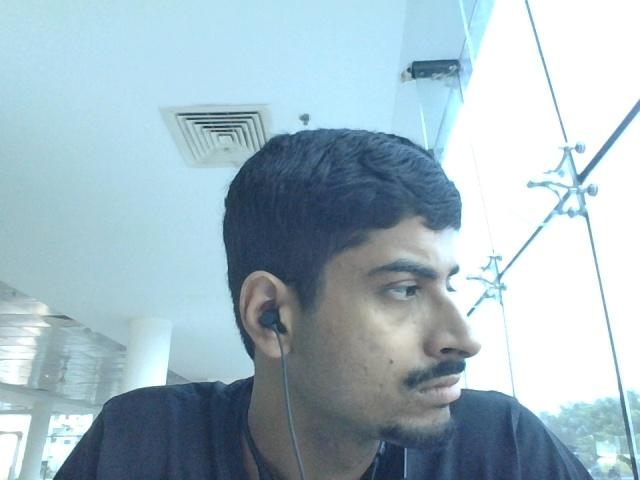average: (220, 142, 472, 455)
